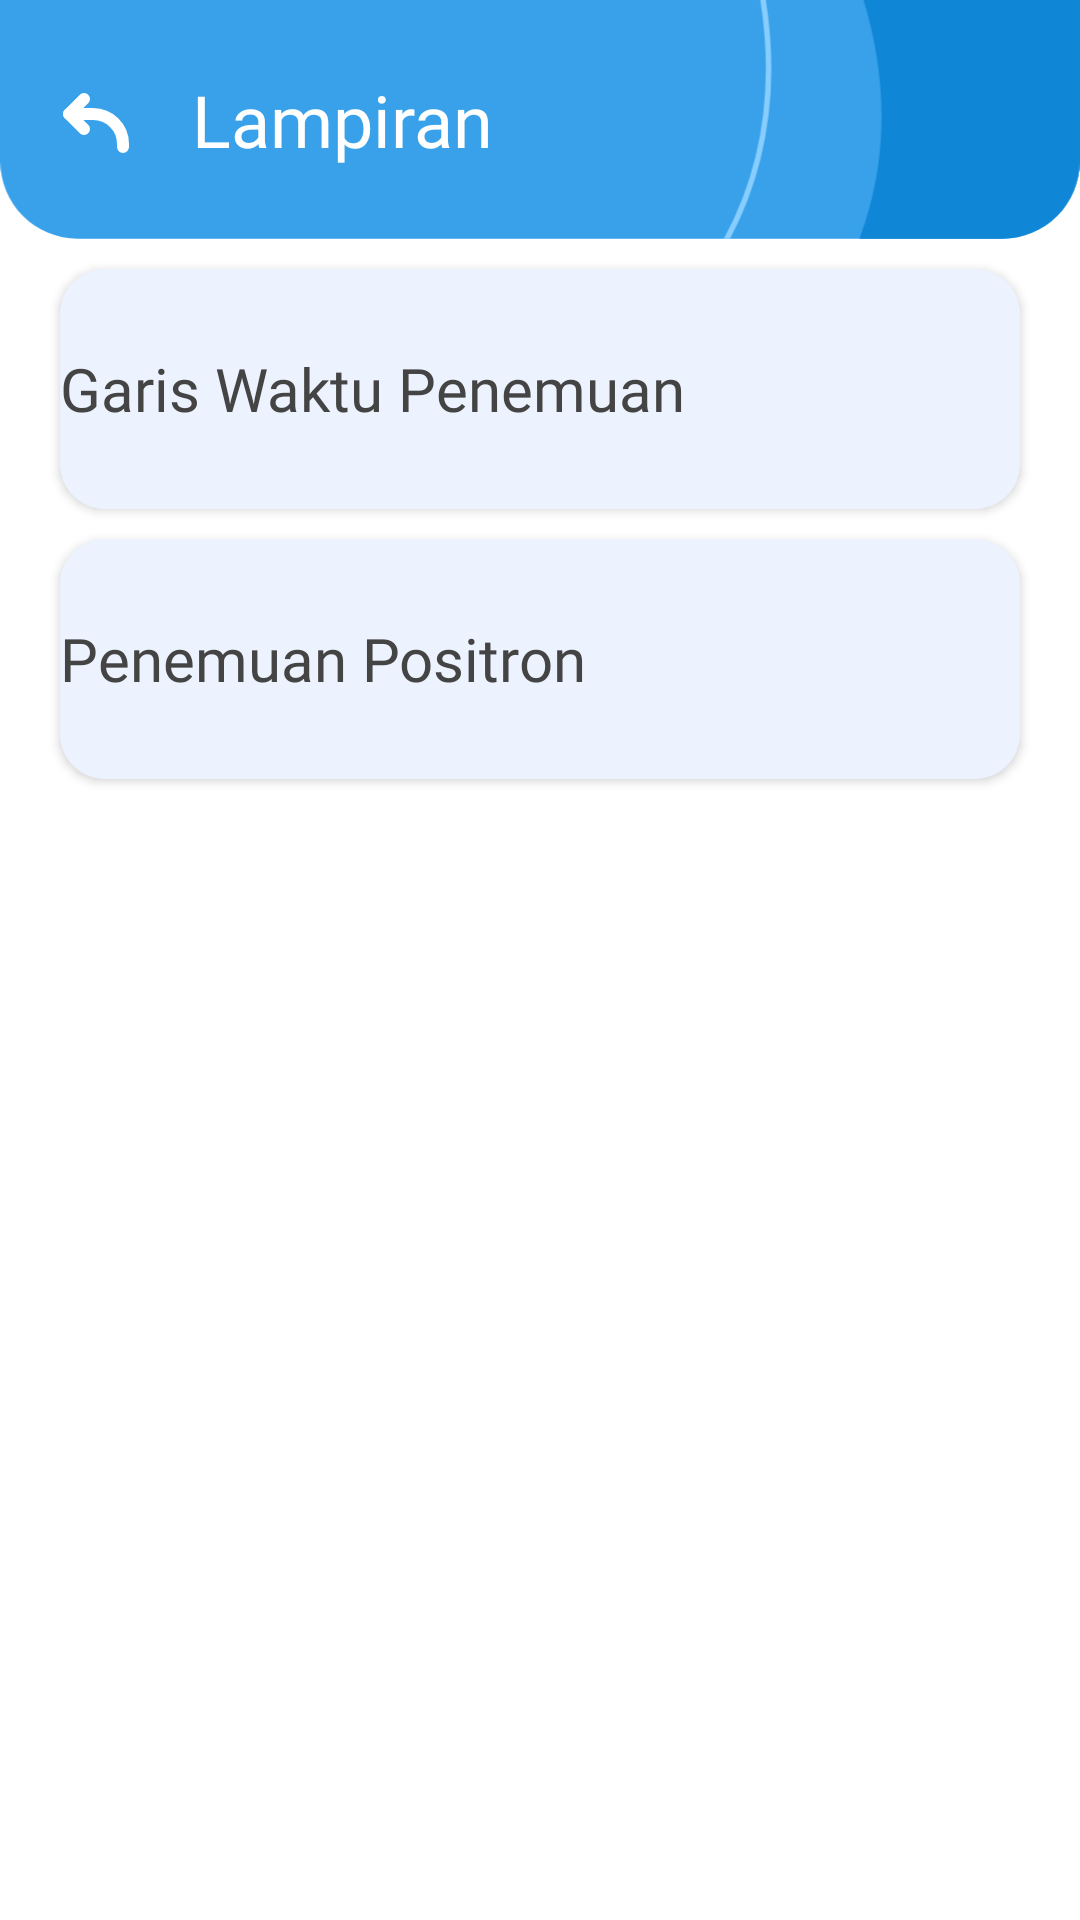

Icon bounding boxes for this 1080px x 1920px phone screenshot, format {"x1": x1, "y1": y1, "x2": x2, "y2": y2}:
arrow back: {"x1": 63, "y1": 93, "x2": 129, "y2": 153}
